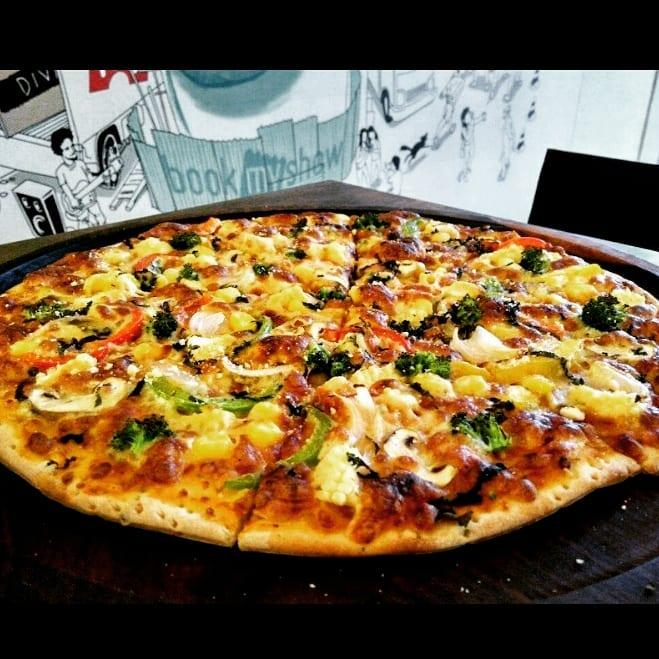Broccoli: (449, 404, 525, 458), (111, 409, 174, 458), (17, 293, 101, 324), (396, 344, 464, 382), (580, 294, 633, 336), (305, 341, 359, 382), (142, 295, 185, 345), (449, 290, 486, 348), (305, 280, 352, 313), (345, 207, 398, 234), (513, 243, 554, 277), (166, 225, 206, 252)
Peppers: (227, 403, 334, 488), (16, 304, 145, 370), (146, 373, 287, 420), (192, 309, 279, 367), (311, 317, 412, 356), (493, 235, 557, 254)
Pineapple: (567, 378, 645, 422), (482, 348, 570, 385), (186, 427, 235, 463), (448, 370, 496, 406), (265, 283, 310, 319), (446, 353, 492, 384), (80, 270, 131, 297), (131, 233, 172, 265), (243, 417, 285, 448), (415, 372, 458, 402), (555, 260, 609, 282), (205, 281, 247, 308), (554, 276, 597, 302), (319, 237, 351, 271), (248, 399, 288, 425), (228, 307, 258, 337), (477, 249, 522, 269), (99, 244, 131, 269), (184, 245, 217, 267)
Pizza: (0, 206, 659, 567)
